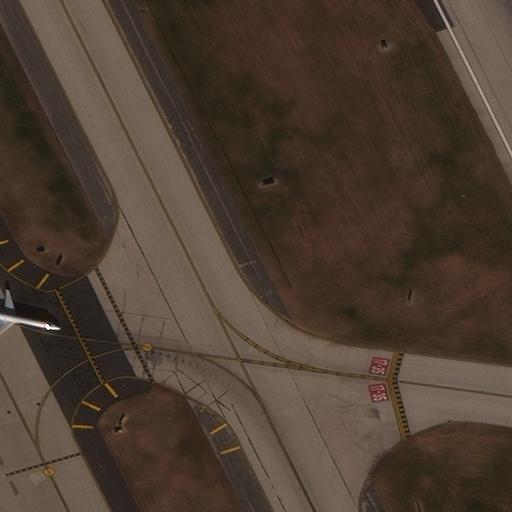Medium Civil Transport: (0, 289, 60, 340)
